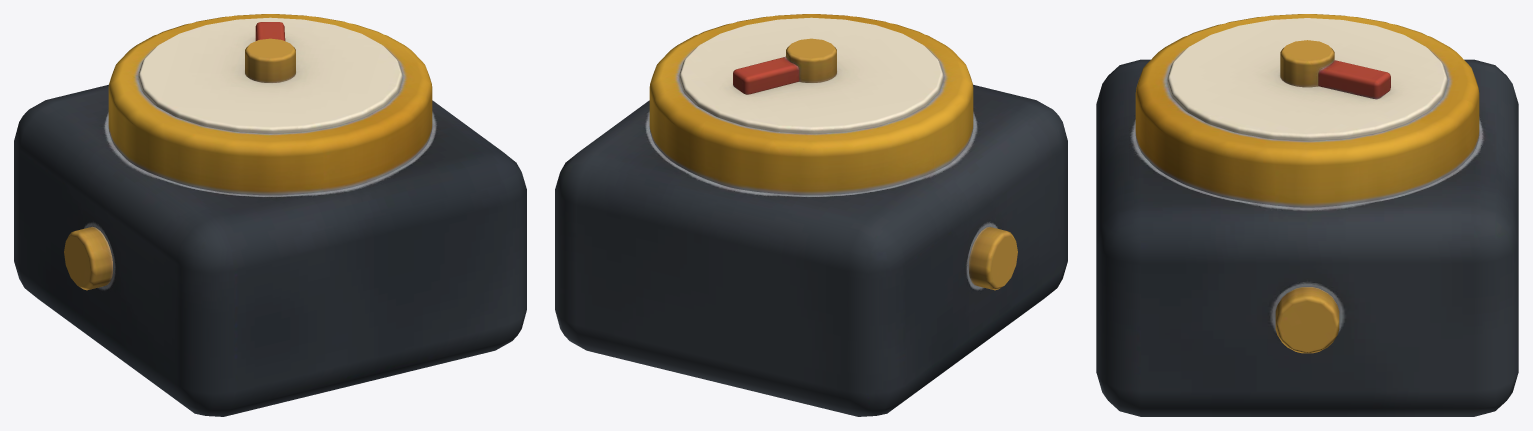
File: timer_box-v001.glb
3 views of the same model, side by side, from view 1: azimuth 30°, elevation 25°; view 2: azimuth 150°, elevation 25°; view 3: azimuth 270°, elevation 25° (orthographic). The views are drawn at different scales.
Visible parts, largest first — view 1: TimerBox; view 2: TimerBox; view 3: TimerBox.
Boxes of the visible parts, x1,y1,x2,y2 form: TimerBox: [14, 14, 526, 416]; TimerBox: [555, 14, 1067, 416]; TimerBox: [1096, 14, 1518, 416].
Bounding box in the file's own units: 0.37 × 0.252 × 0.33.
Materials: 1 (1 with a texture image).
